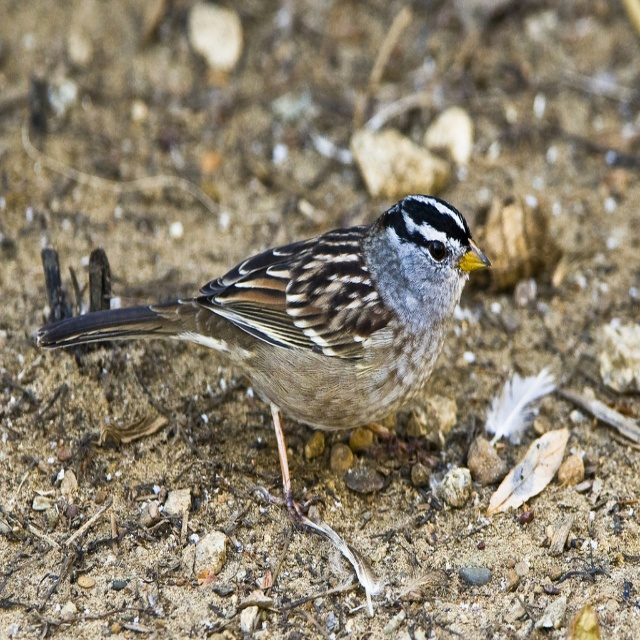Sparrow: (36, 192, 490, 522)
